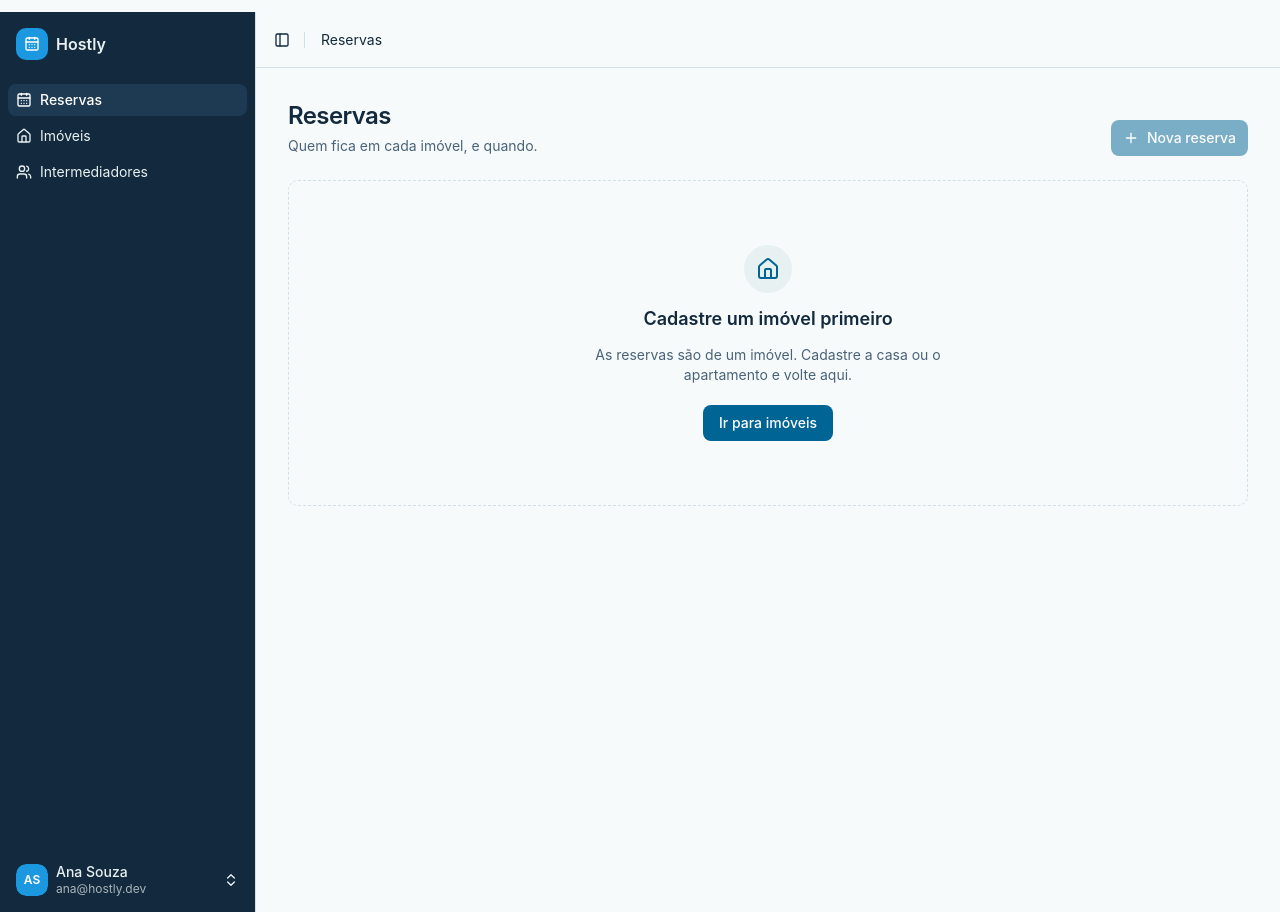
Test: app layout › navigates between sections, updating the breadcrumb and the tab title
Expected: the navigation bar named "Principal" is shown, [8,84,247,188]
Click the link "Intermediadores" at (82, 172), box [16,163,148,180]
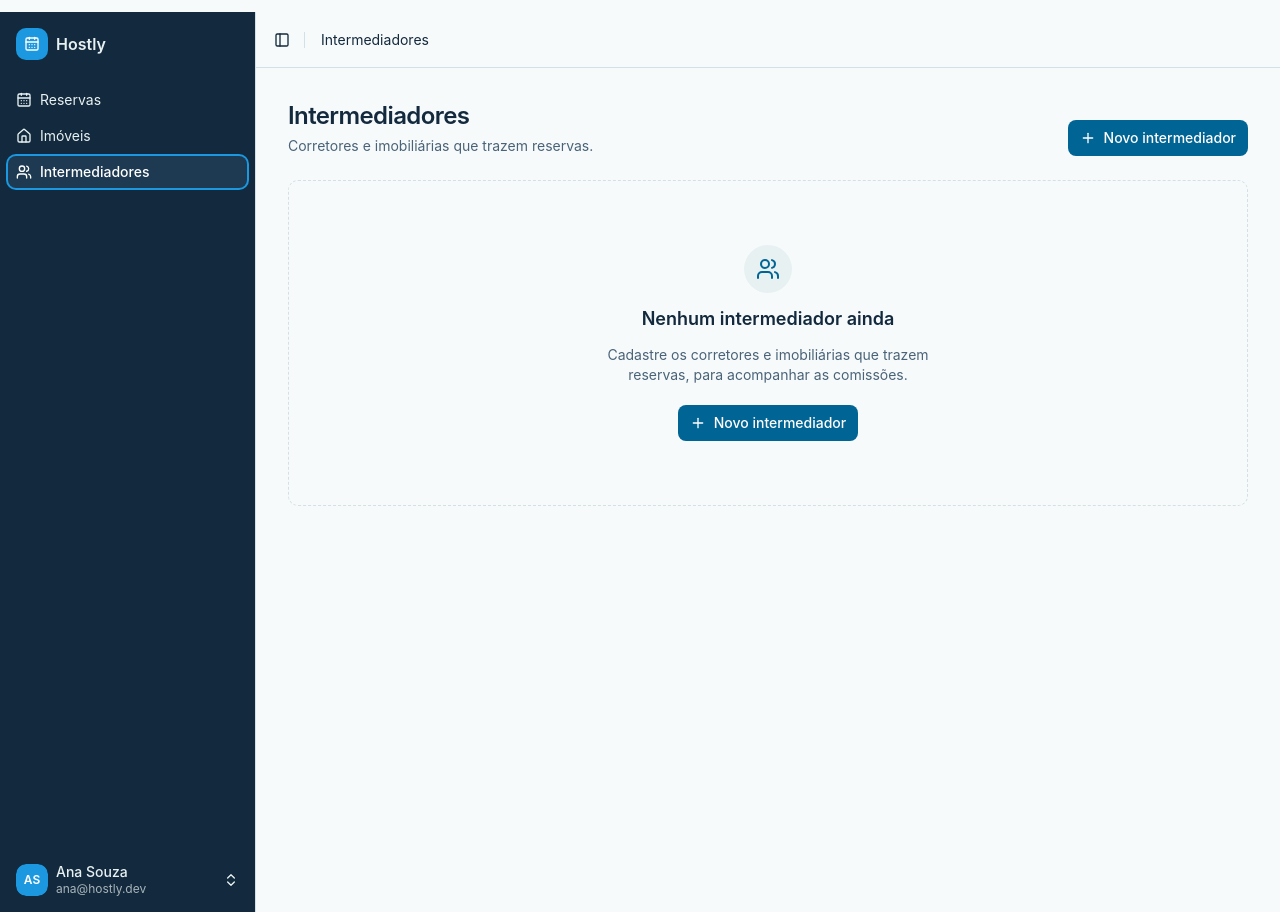
Expected: the heading "Intermediadores" is shown, [288,101,469,130]
Expected: the 1st link "Intermediadores" is shown, [321,30,429,50]
